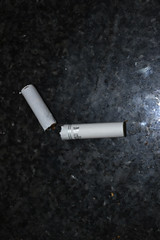cigarette: (20, 83, 57, 133), (60, 121, 127, 142)
